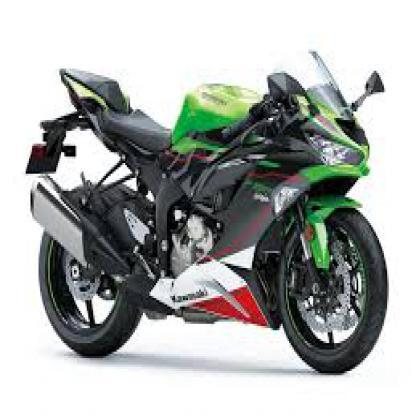Motorcycle: (20, 42, 400, 382)
